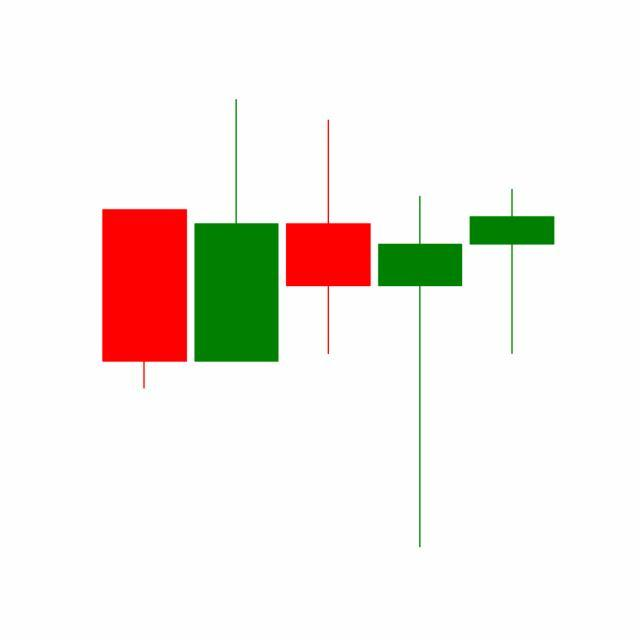Spinning Top: (374, 192, 468, 552)
